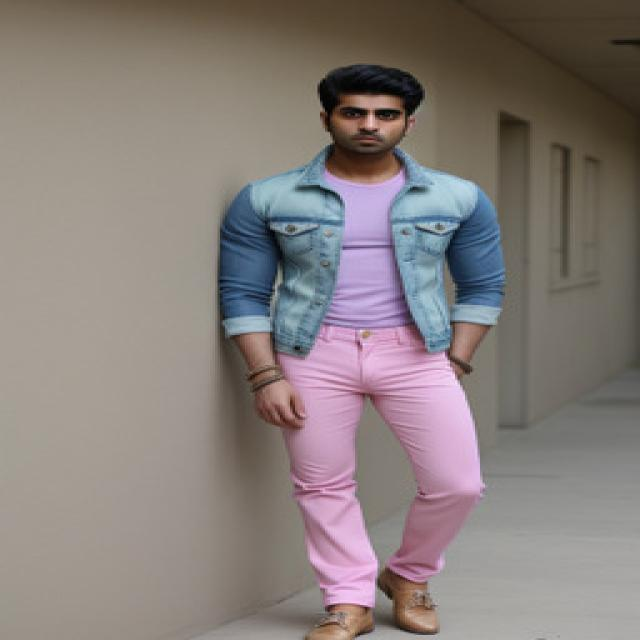Ai human 2: (197, 45, 525, 640)
